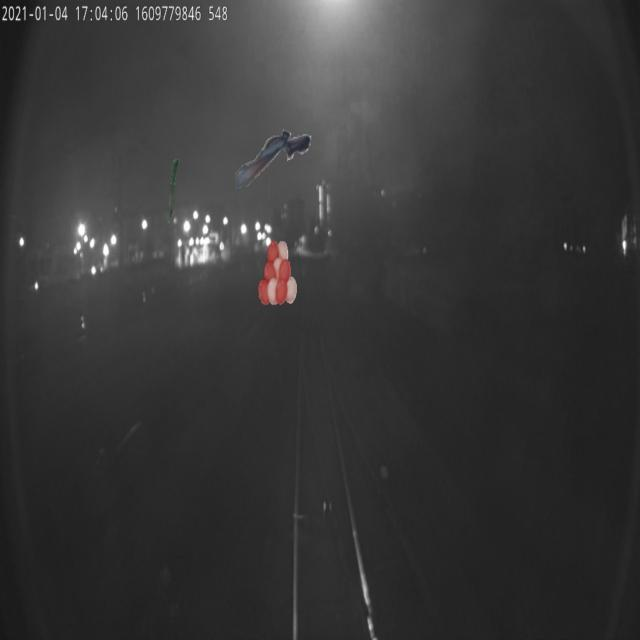balloon: (258, 240, 297, 304)
floating object: (235, 125, 312, 189), (167, 159, 179, 223)
